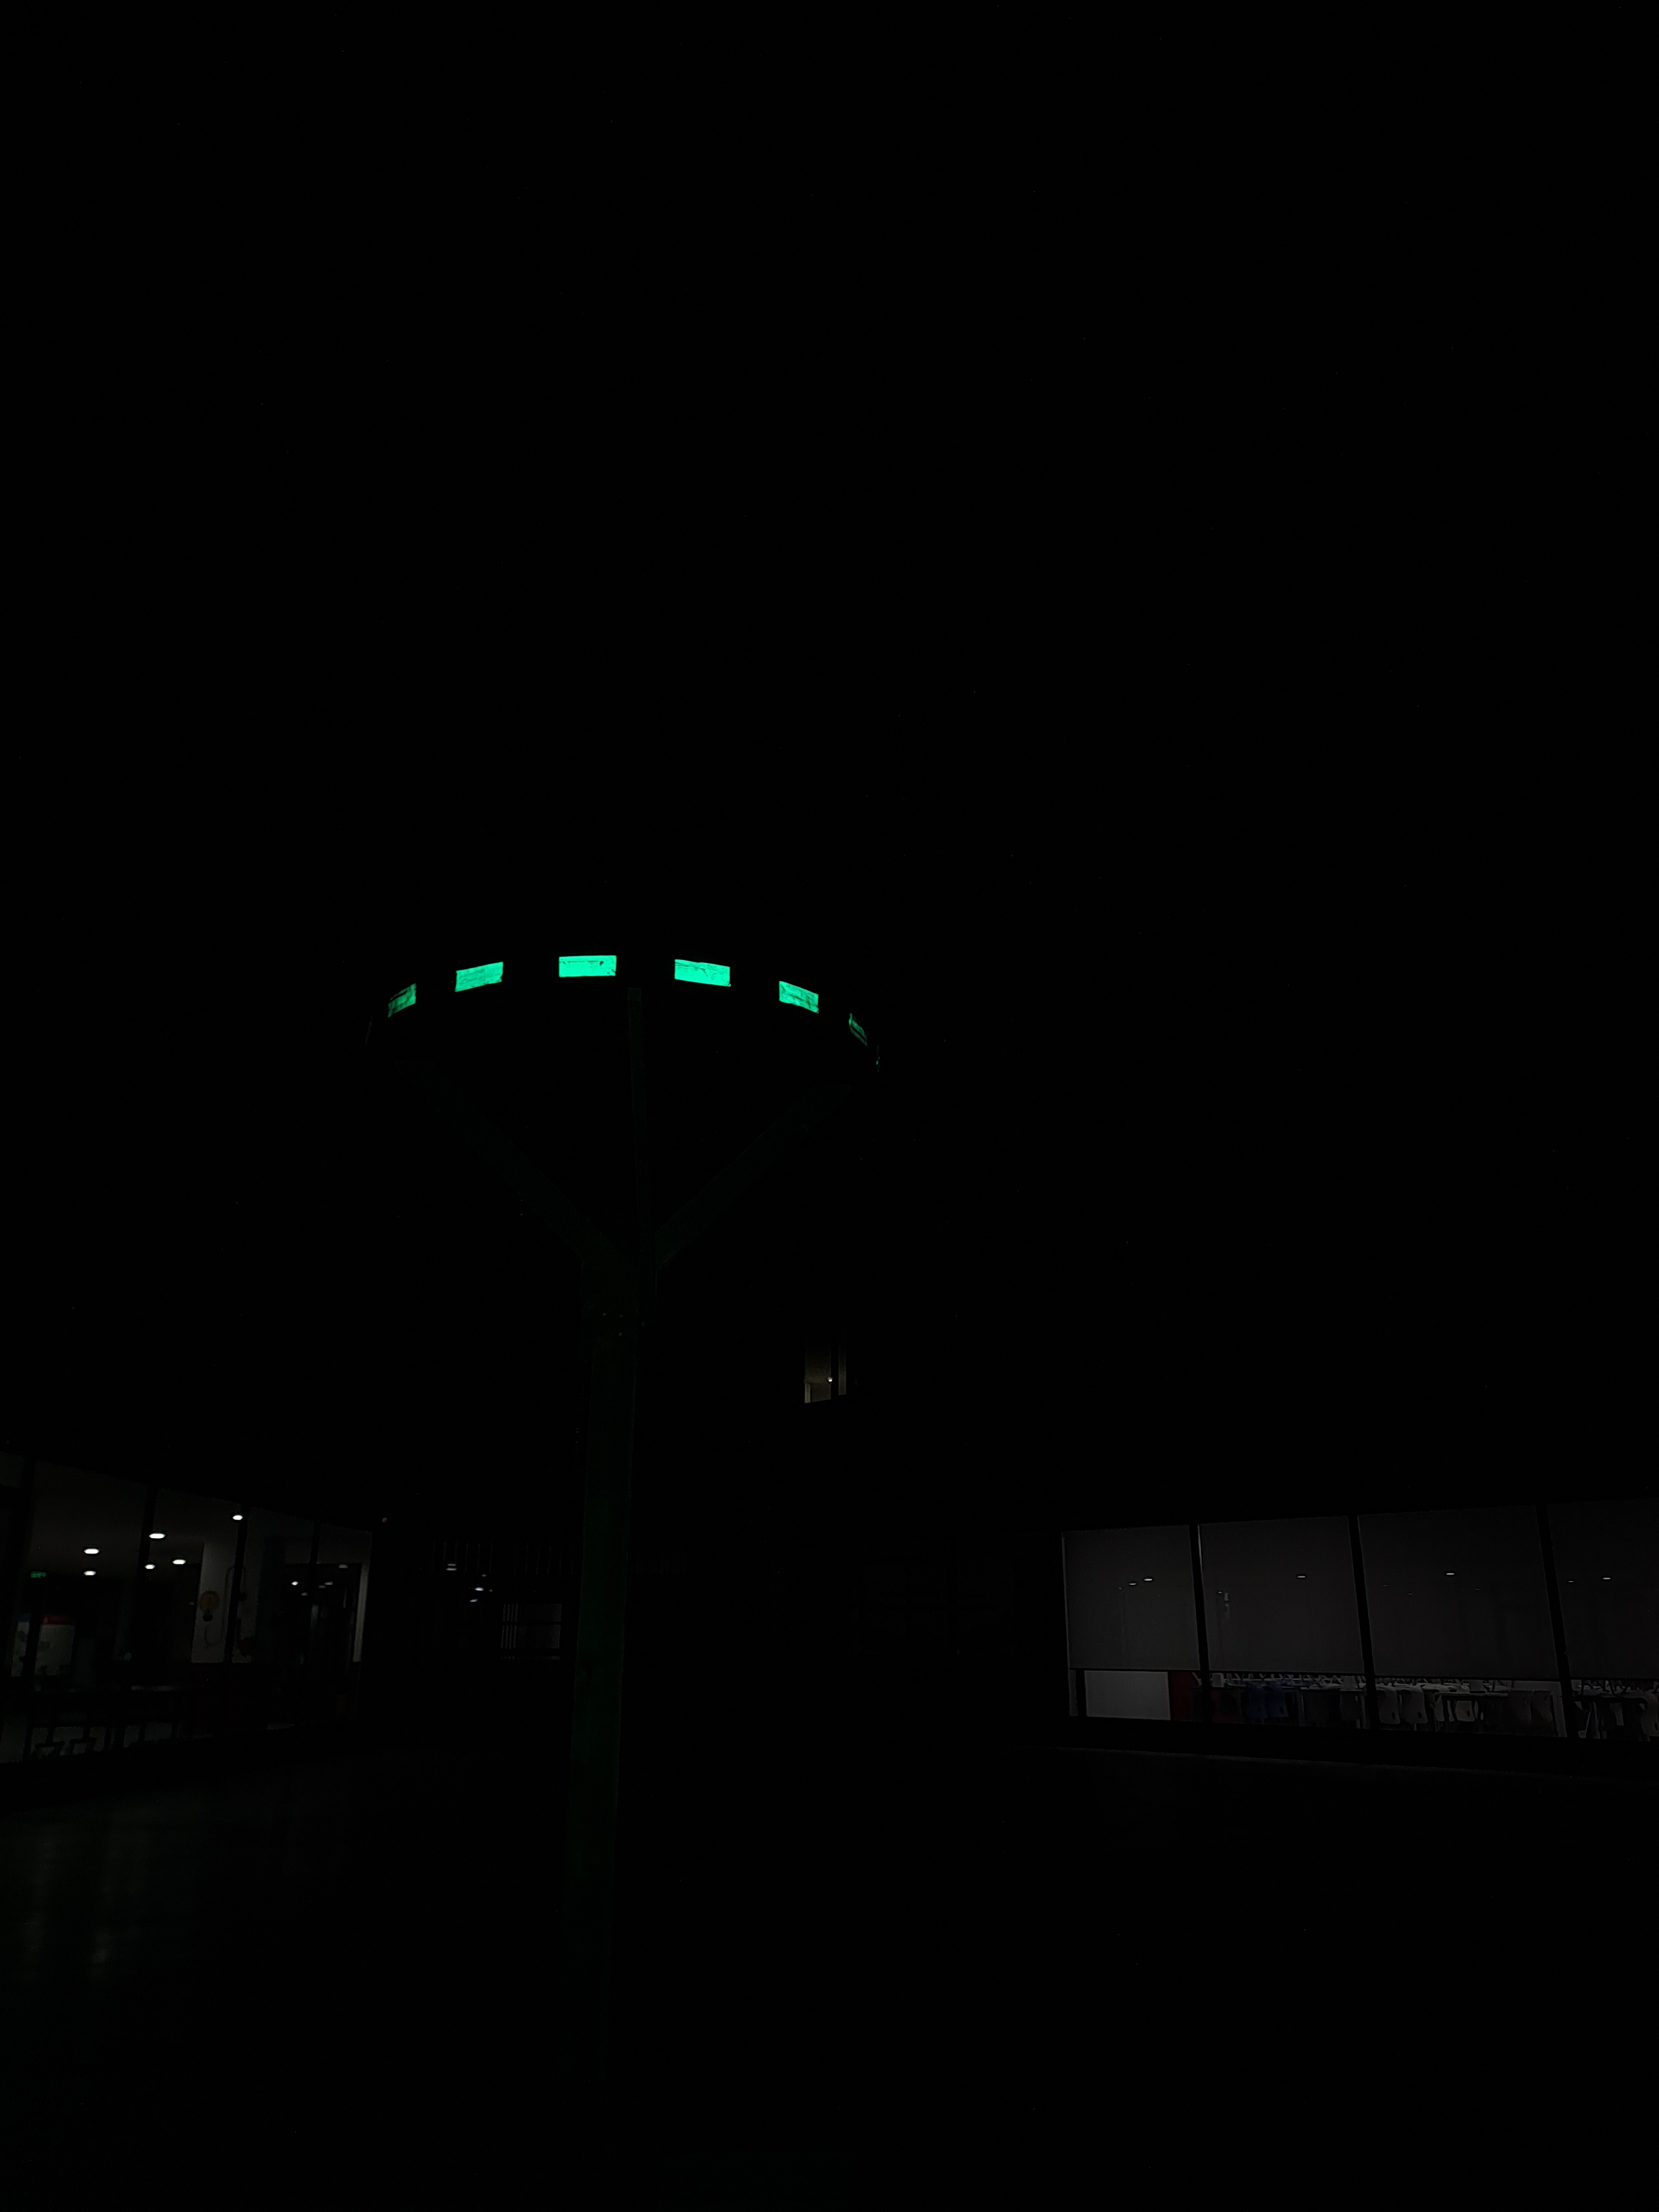hoop: (387, 946, 824, 1031)
